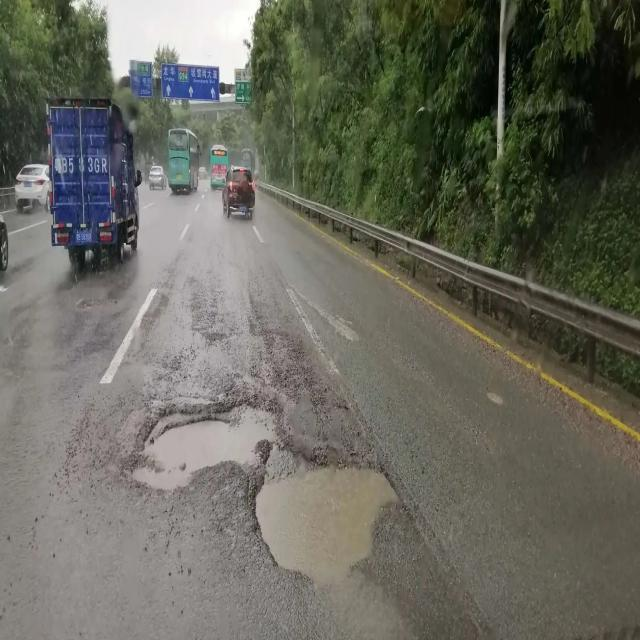Buraco: (115, 392, 408, 598), (71, 296, 123, 313)
